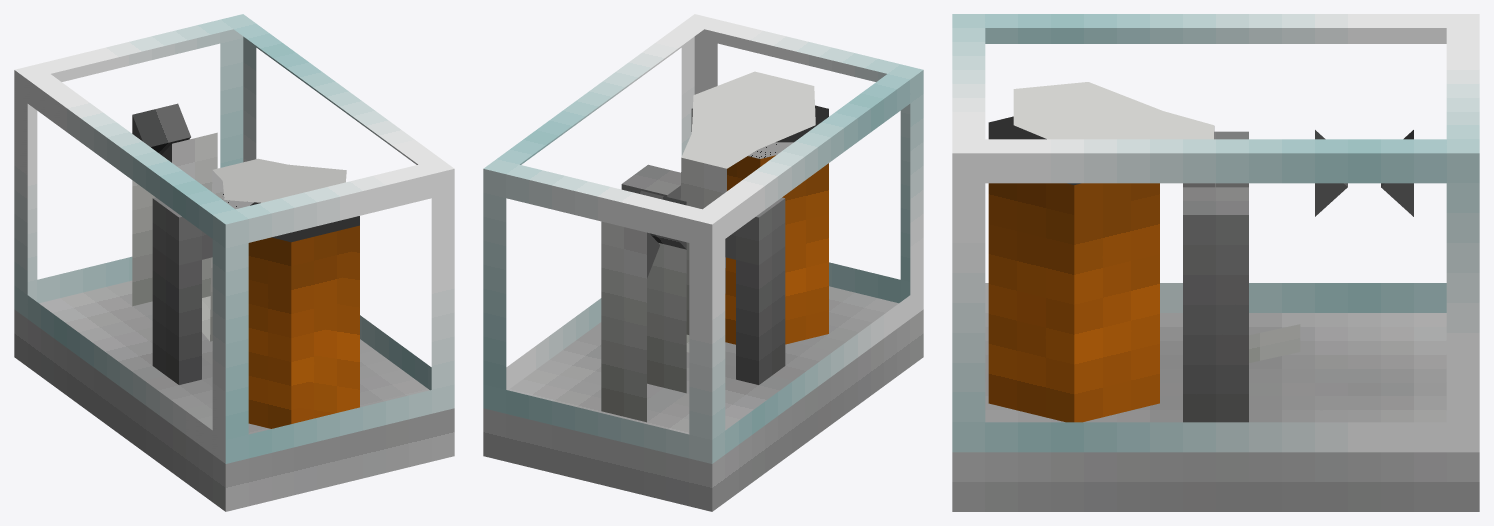
File: RelayBig.obj
3 views of the same model, side by side, from view 1: azimuth 30°, elevation 25°; view 2: azimuth 150°, elevation 25°; view 3: azimuth 270°, elevation 25° (orthographic). The views are drawn at different scales.
Parts seen in each view (by area): view 1: main, relay0, relay1; view 2: main, relay0, relay1; view 3: main, relay0, relay1.
Boxes of the visible parts, x1,y1,x2,y2 form: main: (14, 14, 454, 511); relay0: (202, 158, 346, 341); relay1: (161, 132, 217, 297); main: (483, 14, 923, 511); relay0: (680, 71, 815, 352); relay1: (640, 190, 686, 393); main: (952, 14, 1479, 511); relay0: (1013, 82, 1300, 362); relay1: (1315, 130, 1347, 216).
Bounding box in the file's own units: 0.625 × 0.75 × 1.
1 material, 1 textured.
